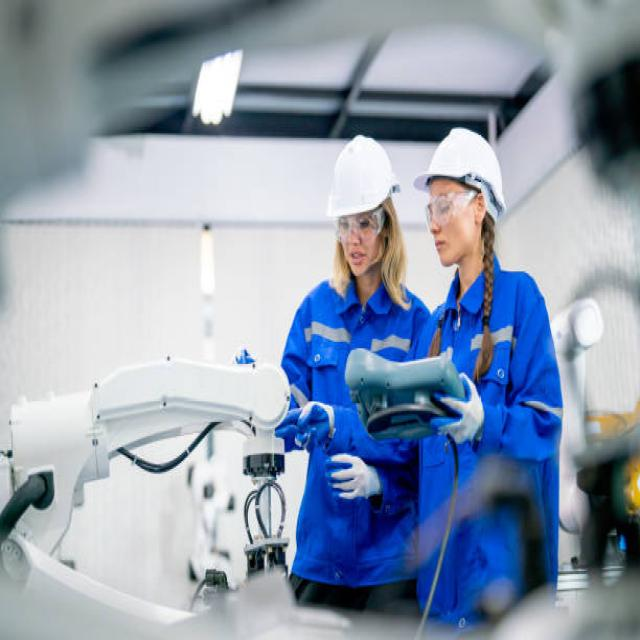Robotic-arm: (0, 355, 289, 584)
